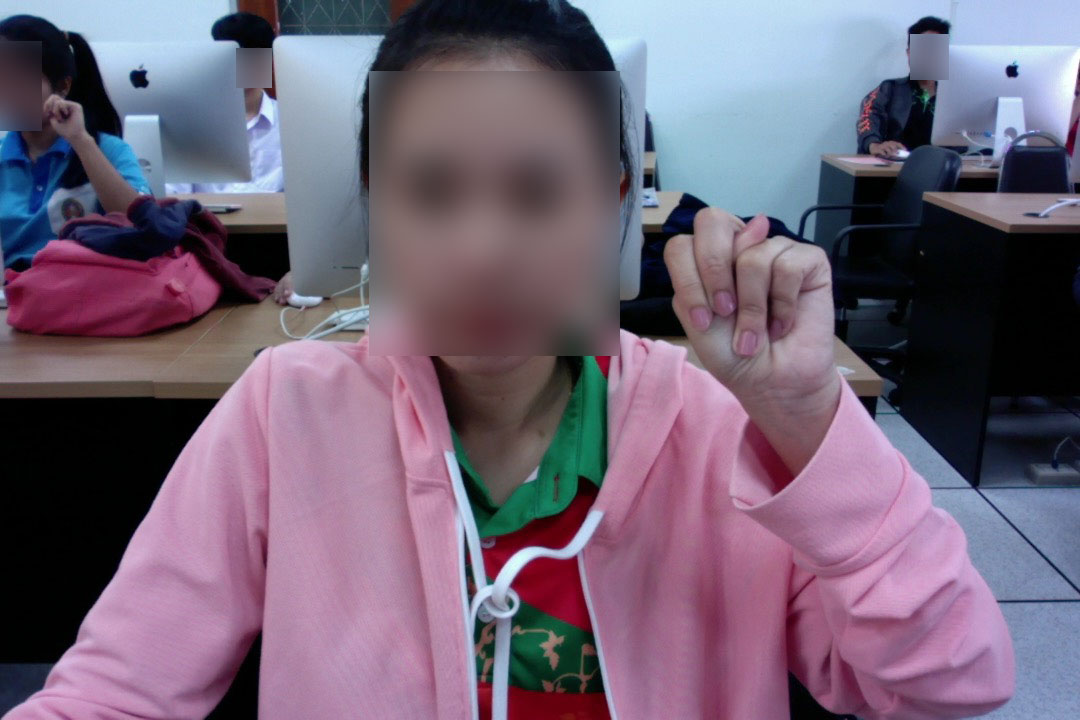nor: (659, 198, 845, 432)
